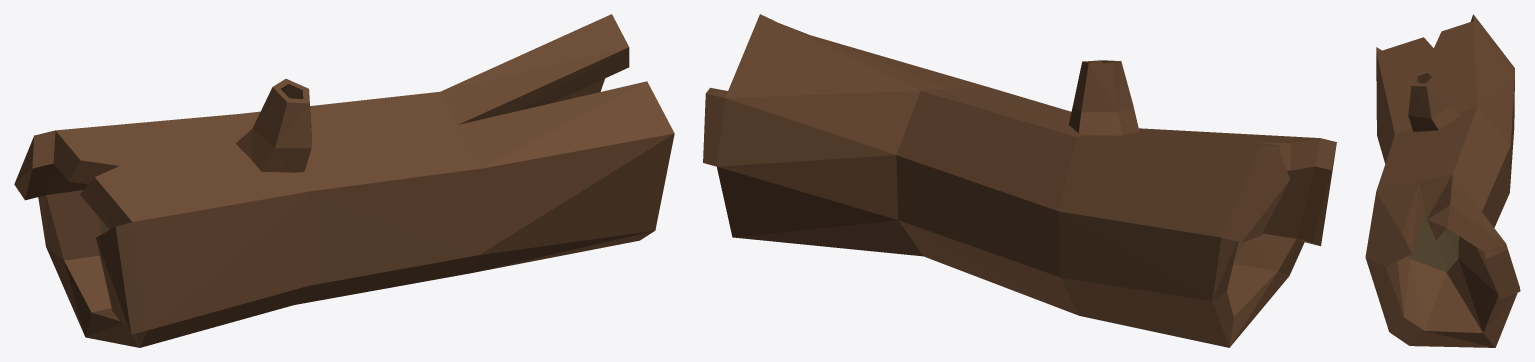
3 renders of one model, left to right at view 1: azimuth 30°, elevation 25°; view 2: azimuth 150°, elevation 25°; view 3: azimuth 270°, elevation 25°, orthographic. The views are drawn at different scales.
Visible parts, largest first — view 1: mff_tree_trunk; view 2: mff_tree_trunk; view 3: mff_tree_trunk.
Part boxes in pixels (<box>): mff_tree_trunk: <box>14,14,674,347</box>; mff_tree_trunk: <box>703,14,1336,347</box>; mff_tree_trunk: <box>1365,14,1520,347</box>.
Size of the model in its own units: 1.96 by 0.7521 by 0.6415.
Materials: 1 (1 with a texture image).
